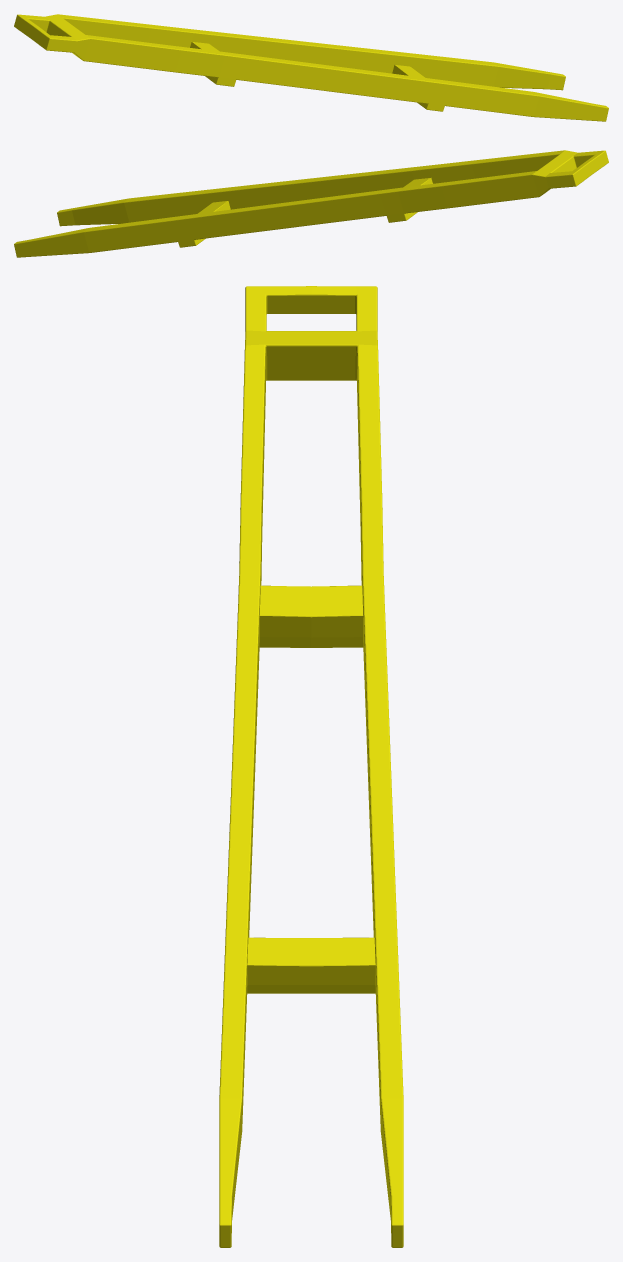
File: Boom.glb
3 views of the same model, one above another, from view 1: azimuth 30°, elevation 25°; view 2: azimuth 150°, elevation 25°; view 3: azimuth 270°, elevation 25° (orthographic). The views are drawn at different scales.
Parts seen in each view (by area): view 1: Cube; view 2: Cube; view 3: Cube.
Boxes of the visible parts, box(x1,y1,x2,y2) form: Cube: box(14, 14, 608, 121); Cube: box(14, 150, 608, 257); Cube: box(219, 286, 403, 1247).
Bounding box in the file's own units: 19.55 × 7.15 × 2.81.
